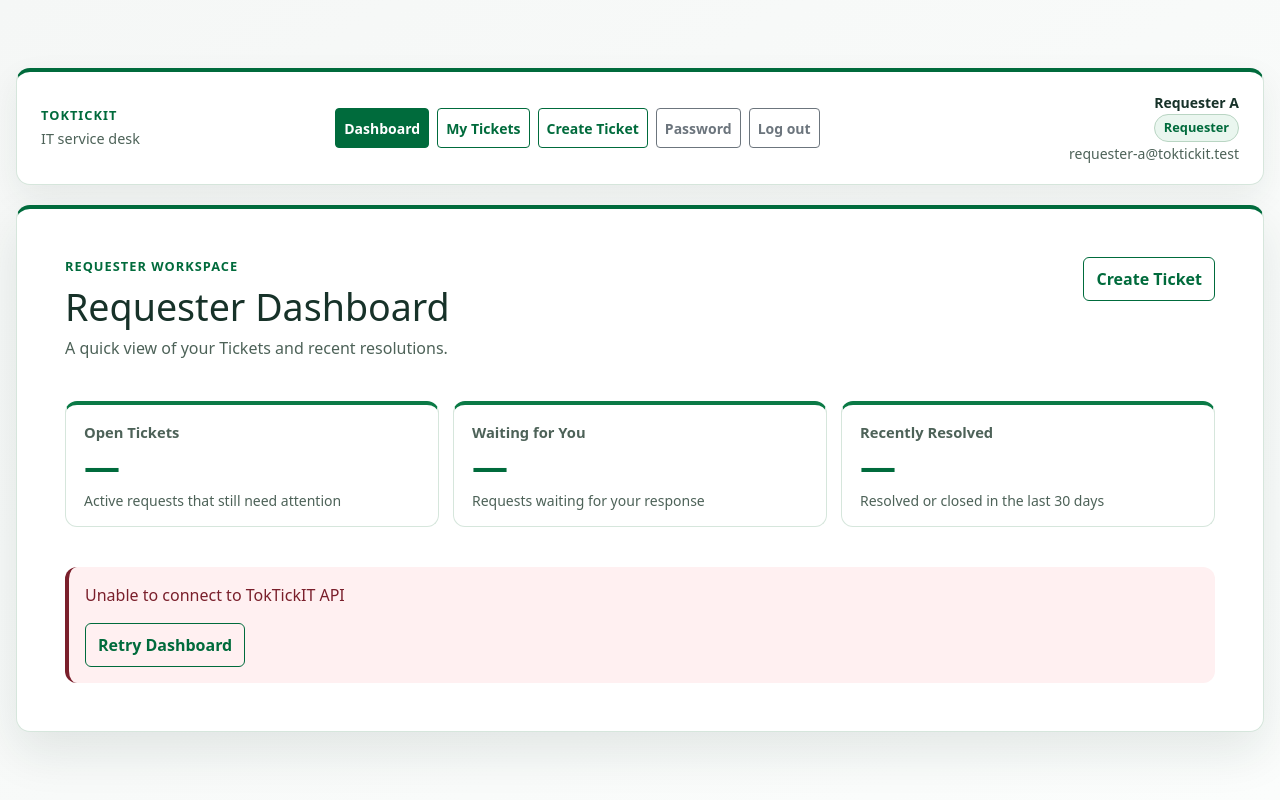
Test: Lab 3 authenticated My Tickets › distinguishes an empty requester list from a no-results query and clears filters
The image size is (1280, 800).
Click the button "My Tickets": click(483, 128) [437,108,530,148]
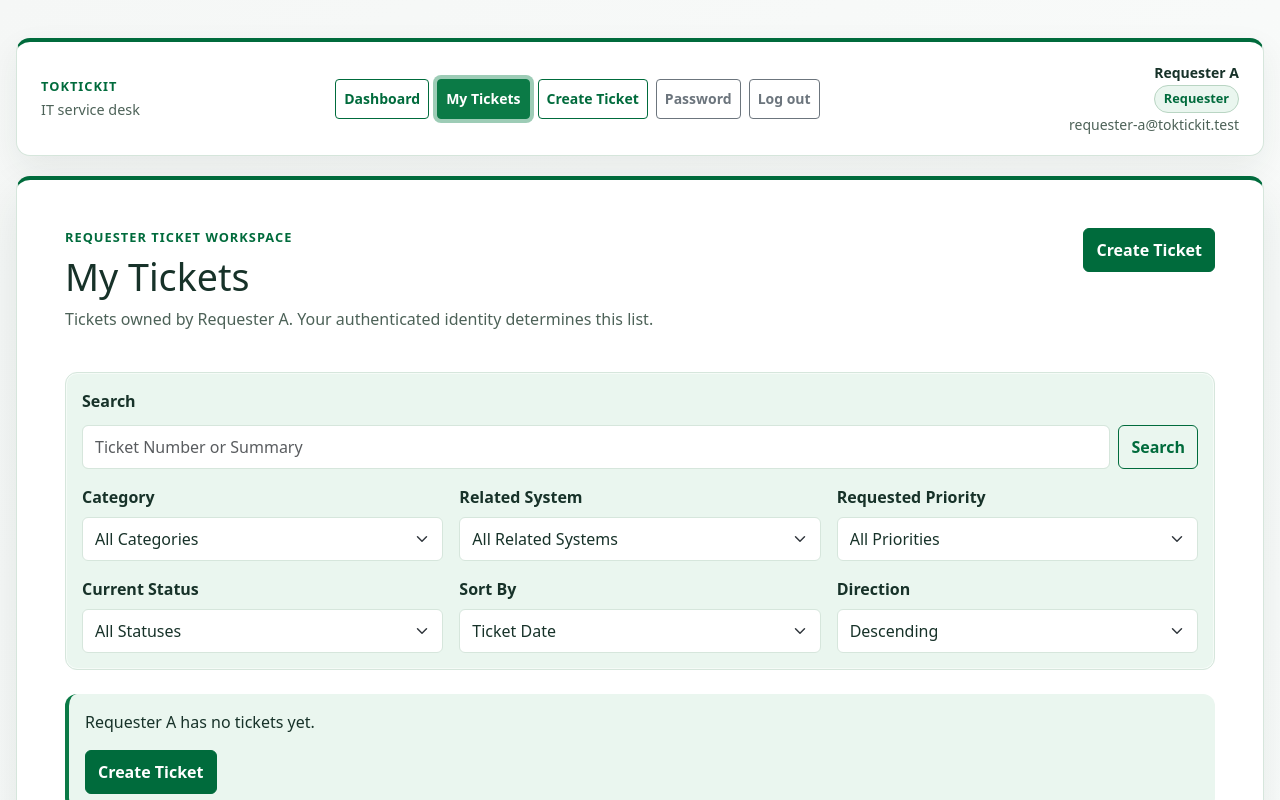
Check: the heading "My Tickets" is shown, box [65,251,250,302]
Check: the text "Requester A has no tickets yet." is shown, box [85,711,315,733]
In the field labelled "Search": (596, 447) [82,425,1110,469], type "VPN"
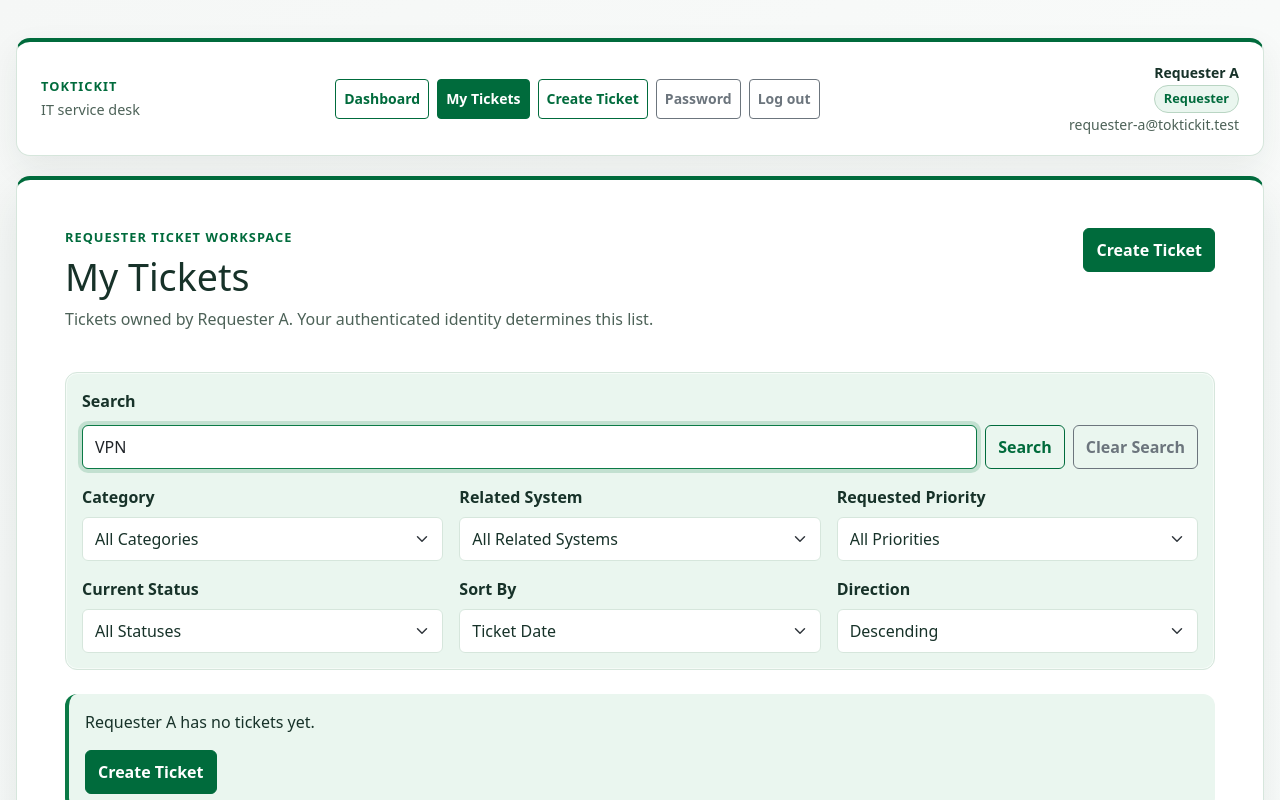
Click the button "Search": click(1025, 447) [985,425,1065,469]
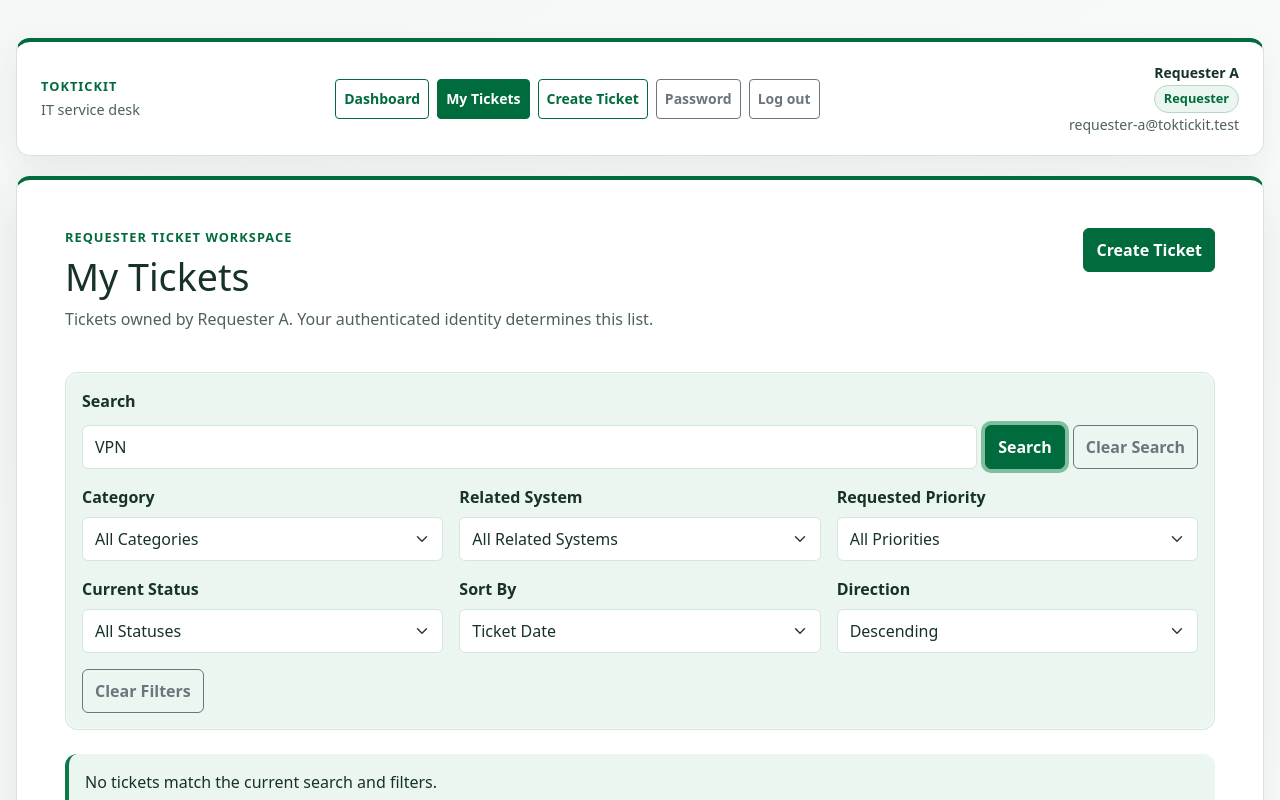
Check: the text "No tickets match the current search and filters." is shown, box [85,771,437,793]
Click the button "Clear Filters": click(143, 691) [82,669,204,713]
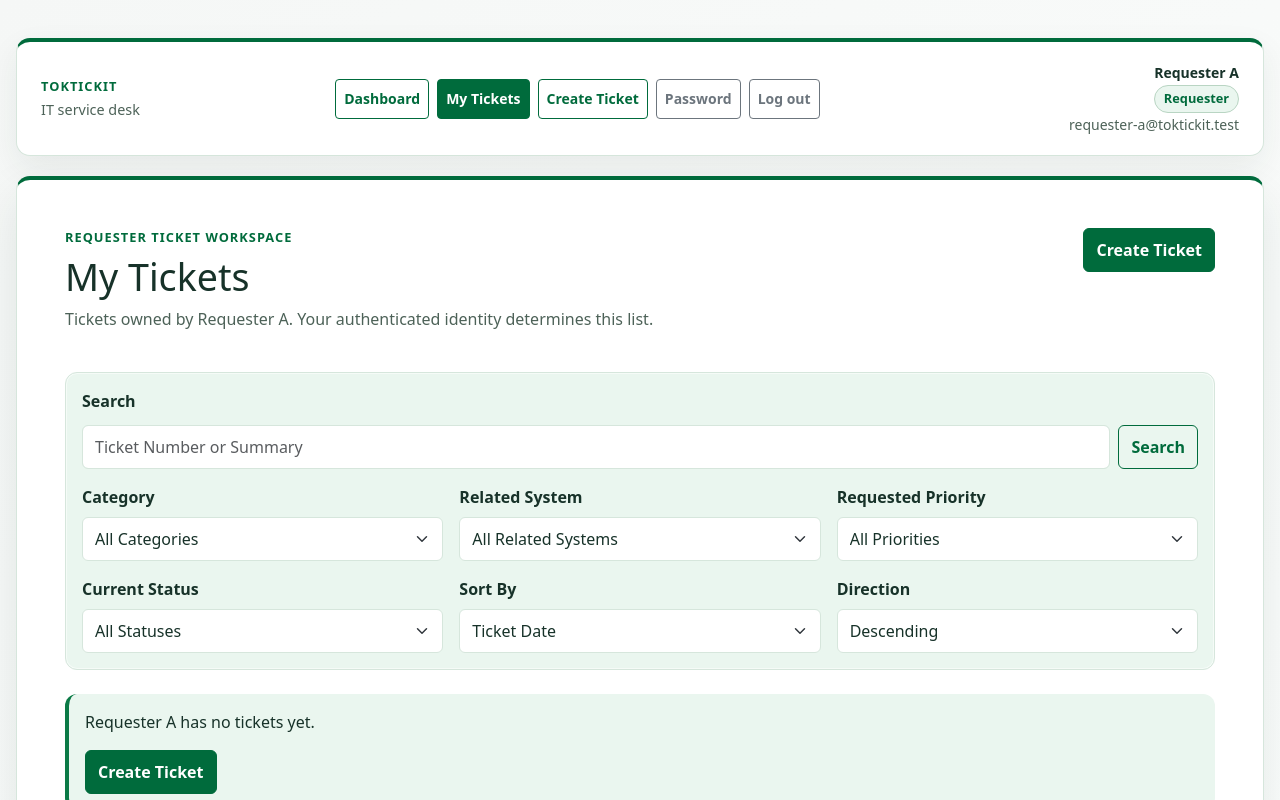
Check: the text "Requester A has no tickets yet." is shown, box [85,711,315,733]
